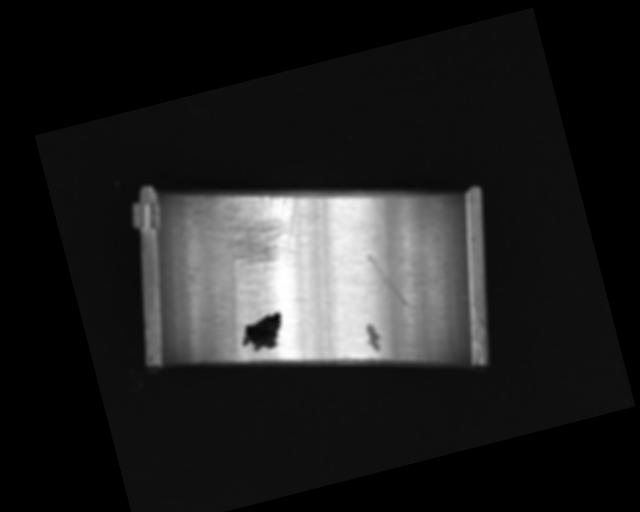blot: (235, 310, 289, 357)
bruise: (362, 321, 385, 354)
nick: (307, 247, 353, 358), (365, 245, 412, 317)
scratch: (186, 170, 315, 289)
